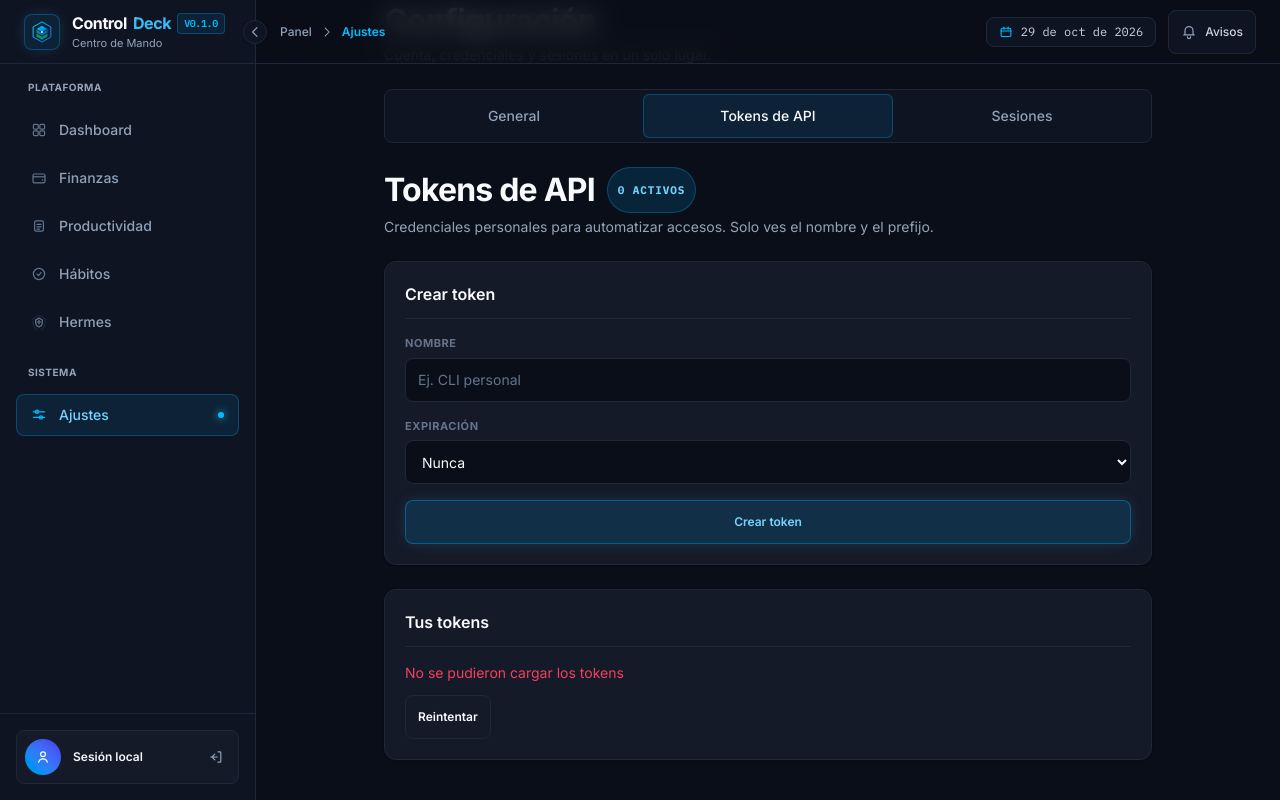
Test: tokens page › shows the error state with retry
(page scrolled)
expect the text "No se pudieron cargar los tokens" is shown: met, box [405,664,624,681]
Click the button "Reintentar" at (448, 717), box [405,695,491,739]
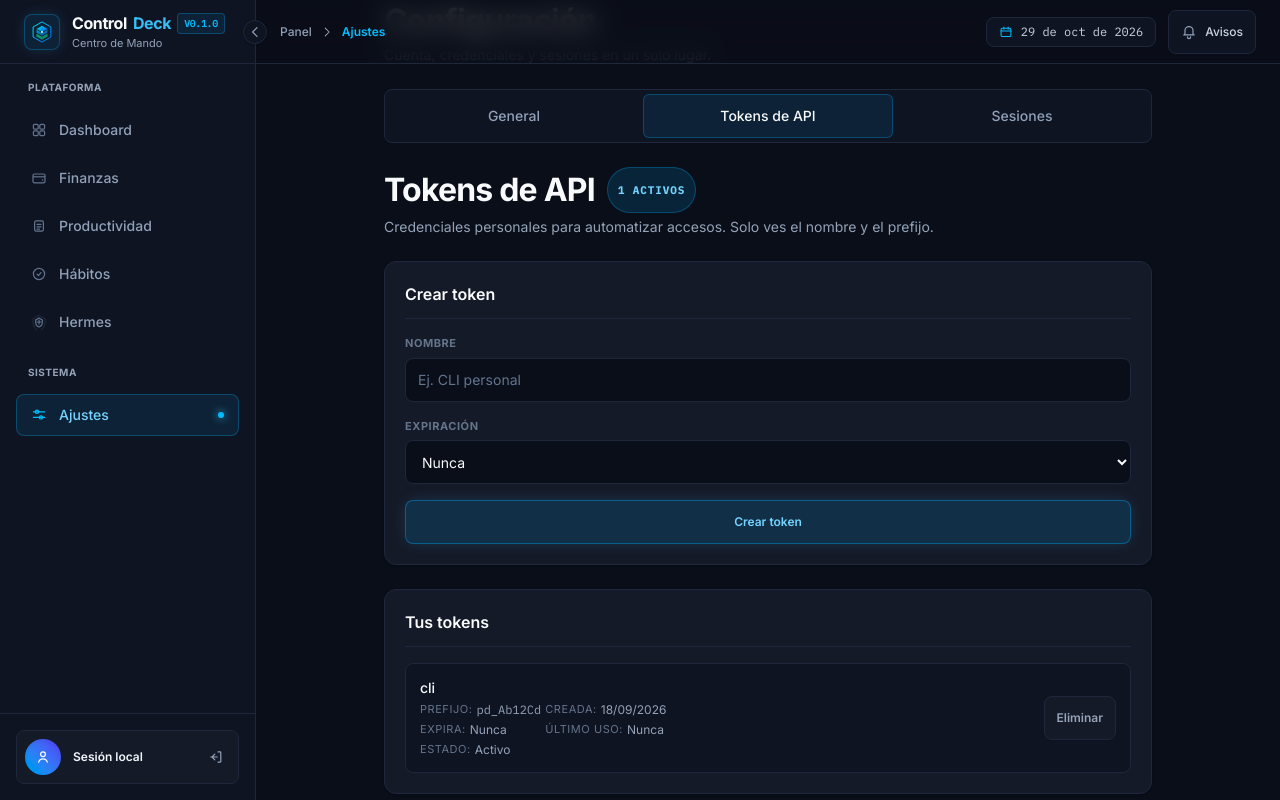
expect the text "cli" is shown: met, box [420,679,435,696]
